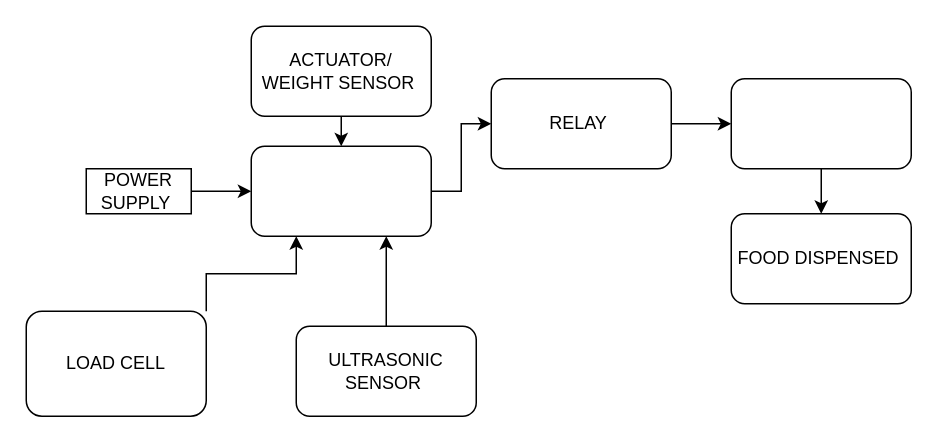
The diagram is 938 pixels wide and 443 high, and some of its shapes have lost their labels. The shapes that lost their labels are listed below. From the top down, each one's centre as x and y in pixels, then its label:
point 820,123: SERVO MOTOR
point 340,190: CONTROLLER
